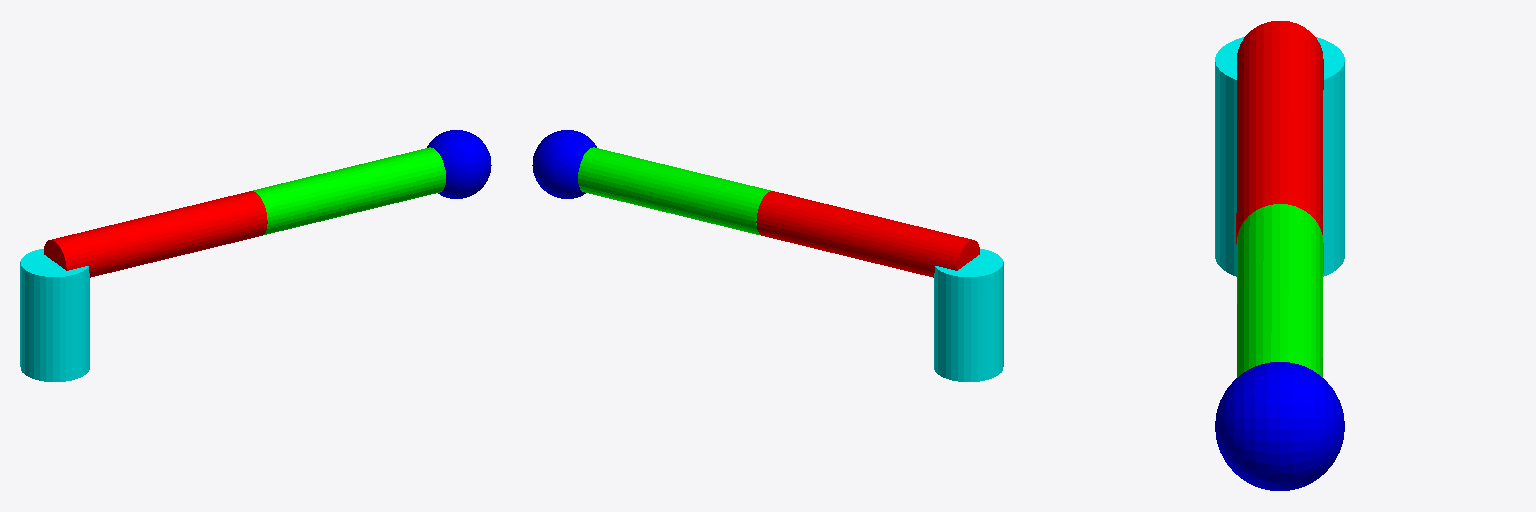
URDF robot description (manipulator):
<?xml version="1.0" ?>
<robot name="manipulator">
  <!-- Link Definitions -->
  <link name="world"/>

  <joint name="world_to_drone" type="fixed">
    <parent link="world"/>
    <child link="link_drone"/>
    <origin xyz="0 0 0" rpy="0 0 0"/> <!-- World 좌표계와 동일 -->
  </joint>
  
<link name="link_drone">
  <inertial>
    <origin xyz="0 0 0.15" rpy="0 0 0"/> <!-- Center of mass adjustment -->
    <mass value="1"/>
    <inertia ixx="0.032" ixy="0" ixz="0" iyy="0.032" iyz="0" izz="0.00012"/>
  </inertial>
  <visual>
    <origin xyz="0 0 0" rpy="0 0 0.785398"/> <!-- Center of mass adjustment -->  
    <geometry>
        <mesh filename="package://ros_gz_example_description/models/manipulator/meshes/palletrone.dae" scale="0.00085 0.00085 0.00085"/>
    </geometry>
  </visual>
</link>

  <joint name="joint_1" type="revolute">
    <parent link="link_drone"/>
    <child link="link_1"/>
    <origin xyz="0 0 0.15" rpy="0 0 0"/> <!-- link_drone의 위쪽 중심 -->
    <axis xyz="0 0 1"/> <!-- Z축 회전 -->
    <limit lower="-1.57" upper="1.57" effort="100" velocity="10.0"/>
  </joint>

  <link name="link_1">
    <inertial>
      <mass value="0.1"/>
      <inertia ixx="0.0001" ixy="0" ixz="0" iyy="0.0001" iyz="0" izz="0.0001"/>
    </inertial>
    <visual>
      <geometry>
        <cylinder radius="0.03" length="0.1"/>
      </geometry>
      <material name="cyan">
        <color rgba="0.0 1.0 1.0 1.0"/> <!-- 청록색 -->
      </material>
    </visual>
    <collision>
      <geometry>
        <cylinder radius="0.03" length="0.1"/>
      </geometry>
    </collision>
  </link>

  <joint name="joint_2" type="revolute">
    <parent link="link_1"/>
    <child link="link_2"/>
    <origin xyz="0.0 0 0.05" rpy="1.57 0 0"/> <!-- link_1 끝에서 x축 방향으로 -90도 회전 -->
    <axis xyz="0 0 1"/> <!-- X축 회전 -->
    <limit lower="-1.57" upper="1.57" effort="100" velocity="10.0"/>
  </joint>

  <link name="link_2">
    <inertial>
      <origin xyz="0.1 0 0" rpy="0 1.57 0"/>
      <mass value="0.5"/>
      <inertia ixx="0.0001" ixy="0" ixz="0" iyy="0.0001" iyz="0" izz="0.0001"/>
    </inertial>
    <visual>
      <origin xyz="0.1 0 0" rpy="0 1.57 0"/>
      <geometry>
        <cylinder radius="0.02" length="0.2"/>
      </geometry>
      <material name="red">
        <color rgba="1.0 0.0 0.0 1.0"/> <!-- 빨간색 -->
      </material>
    </visual>
    <collision>
      <origin xyz="0.1 0 0" rpy="0 1.57 0"/>
      <geometry>
        <cylinder radius="0.02" length="0.2"/>
      </geometry>
    </collision>
  </link>

  <joint name="joint_3" type="revolute">
    <parent link="link_2"/>
    <child link="link_3"/>
    <origin xyz="0.2 0 0.0" rpy="0 0 0"/> <!-- link_1 끝에서 x축 방향으로 -90도 회전 -->
    <axis xyz="0 0 1"/> <!-- X축 회전 -->
    <limit lower="-1.57" upper="1.57" effort="100" velocity="10.0"/>
  </joint>

  <link name="link_3">
    <inertial>
      <origin xyz="0.1 0.0 0.0" rpy="0 1.57 0"/>
      <mass value="0.5"/>
      <inertia ixx="0.0001" ixy="0" ixz="0" iyy="0.0001" iyz="0" izz="0.0001"/>
    </inertial>
    <visual>
      <origin xyz="0.1 0.0 0.0" rpy="0 1.57 0"/>
      <geometry>
        <cylinder radius="0.02" length="0.2"/>
      </geometry>
      <material name="green">
        <color rgba="0.0 1.0 0.0 1.0"/> <!-- 초록색 -->
      </material>
    </visual>
    <collision>
      <origin xyz="0.1 0.0 0.0" rpy="0 1.57 0"/>
      <geometry>
        <cylinder radius="0.02" length="0.2"/>
      </geometry>
    </collision>
  </link>
  
  <joint name="joint_EE" type="fixed">
    <parent link="link_3"/>
    <child link="link_EE"/>
  <origin xyz="0.2 0.0 0.0" rpy="0 0 0"/> <!-- link_3의 끝에 위치 -->    
    <axis xyz="0 0 1"/> <!-- X축 회전 -->  
    <limit lower="-1.57" upper="1.57" effort="100" velocity="10.0"/>    
  </joint>  
  
  <link name="link_EE">
    <visual>
      <origin xyz="0.0 0.0 0" rpy="0 0 0"/>
      <geometry>
        <sphere radius="0.03"/>
      </geometry>
      <material name="blue">
        <color rgba="0.0 0.0 1.0 1.0"/> <!-- 초록색 -->
      </material>
    </visual>
  </link>  
  
  
</robot>

--- Facts derived from the render (not from the file) ---
3 views of the same robot in one strip: view 1: azimuth 30°, elevation 25°; view 2: azimuth 150°, elevation 25°; view 3: azimuth 270°, elevation 25° (orthographic).
Model manipulator with 6 links and 5 joints (3 revolute, 2 fixed), rooted at world, posed all joints at 0.
Links seen in each view (by area): view 1: link_2, link_3, link_1, link_EE; view 2: link_2, link_3, link_1, link_EE; view 3: link_2, link_3, link_EE, link_1.
Link boxes in pixels (<box>): link_2: <box>44,191,267,277</box>; link_3: <box>253,147,445,234</box>; link_1: <box>20,249,89,381</box>; link_EE: <box>427,130,491,198</box>; link_2: <box>756,191,979,277</box>; link_3: <box>578,147,770,234</box>; link_1: <box>934,249,1003,381</box>; link_EE: <box>532,130,596,198</box>; link_2: <box>1236,21,1323,243</box>; link_3: <box>1237,204,1323,377</box>; link_EE: <box>1215,362,1344,490</box>; link_1: <box>1215,37,1344,276</box>.
Size in the robot's own frame: 0.46 by 0.06 by 0.13 metres.
0 mesh visuals loaded from 1 distinct referenced files (none loaded); not drawn: 1 (reference not matched to a file when rendering).
